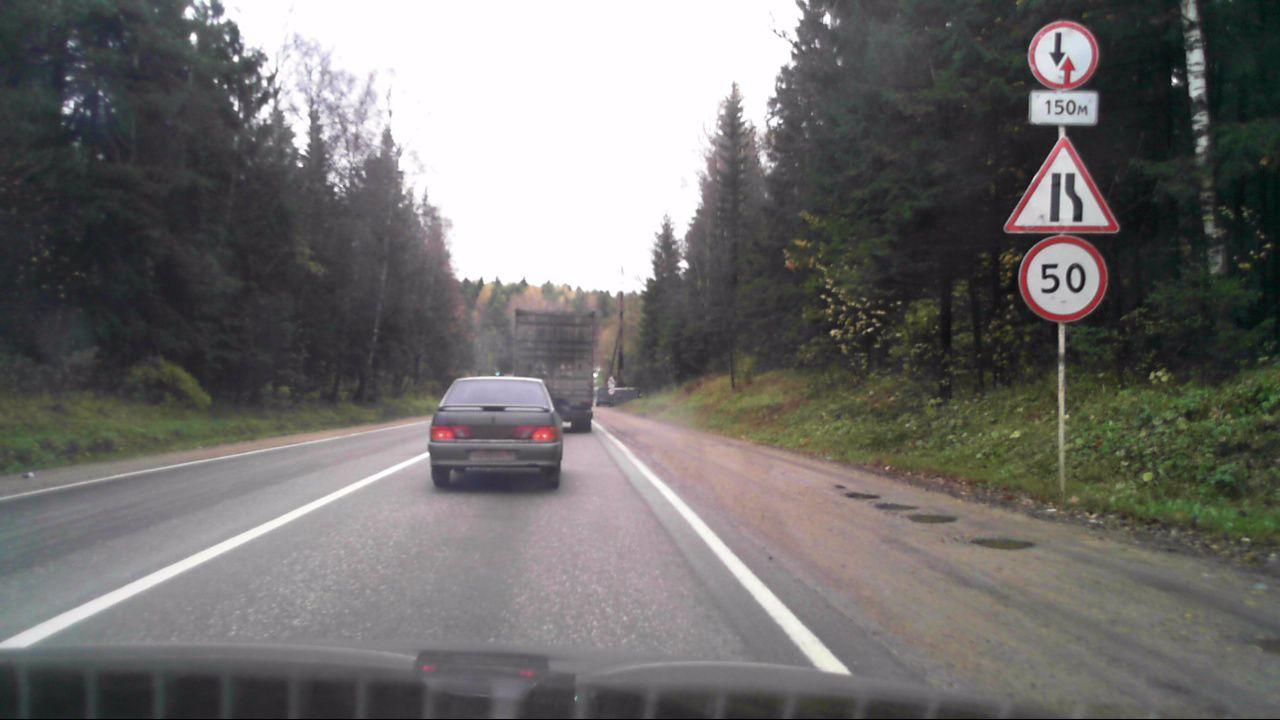1_20_2: (1002, 134, 1116, 235)
2_6: (1026, 20, 1099, 90)
3_24: (1017, 237, 1111, 322)
8_1_1: (1028, 93, 1101, 126)
